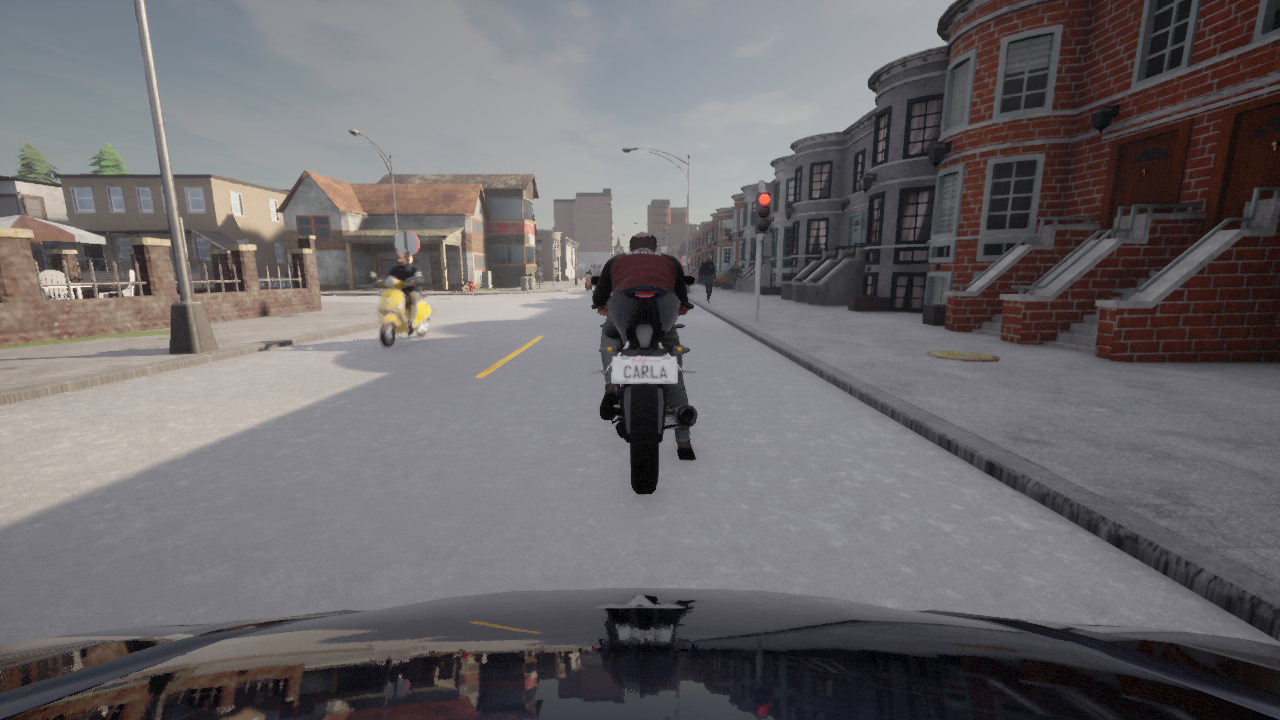cyclist: (0, 588, 1279, 719), (589, 274, 697, 493), (370, 271, 431, 348), (585, 274, 590, 290)
pedestrian: (699, 253, 716, 303), (727, 260, 740, 293), (534, 264, 542, 286), (590, 263, 594, 291), (713, 278, 714, 282)
